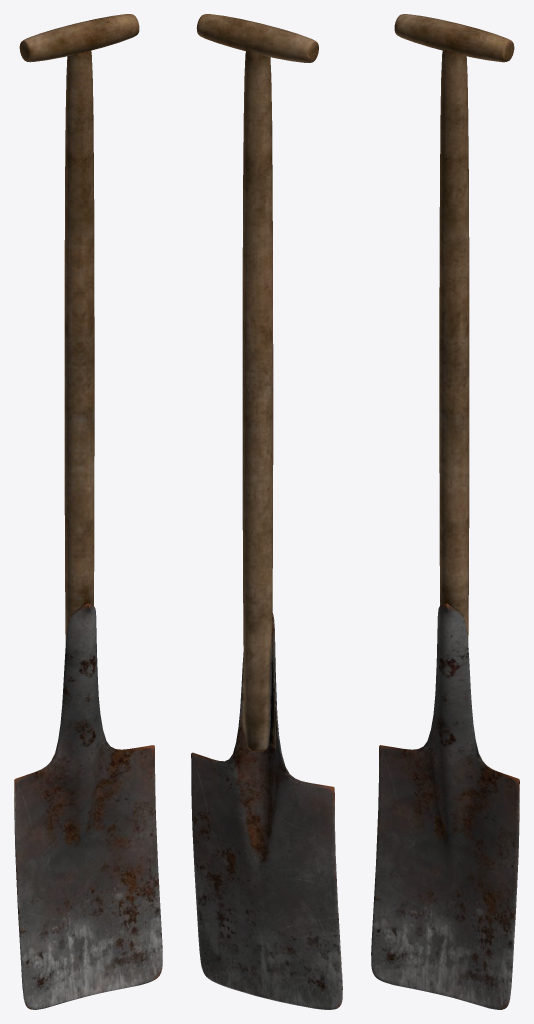
Rendered from rusted_spade_01.glb.
3 renders of one model, left to right at view 1: azimuth 30°, elevation 25°; view 2: azimuth 150°, elevation 25°; view 3: azimuth 330°, elevation 25°, orthographic. The views are drawn at different scales.
Visible parts, largest first — view 1: rusted_spade_01; view 2: rusted_spade_01; view 3: rusted_spade_01.
Part boxes in pixels (x1=…): rusted_spade_01: x1=14, y1=14, x2=162, y2=1009; rusted_spade_01: x1=191, y1=14, x2=342, y2=1009; rusted_spade_01: x1=371, y1=14, x2=519, y2=1009.
Size of what is drawn, in the model's own units: 0.1681 by 1.1 by 0.0456.
Materials: 1 (1 with a texture image).
